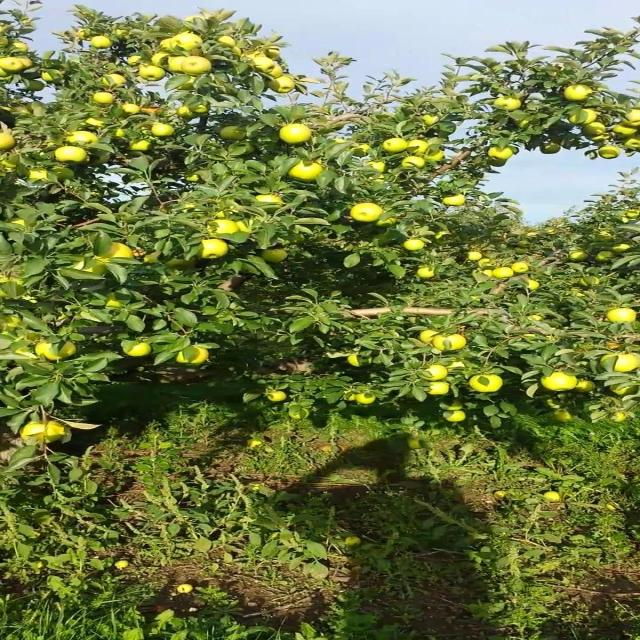apple: (20, 420, 67, 444), (540, 371, 578, 391), (36, 341, 76, 360), (600, 354, 640, 372), (278, 124, 313, 144), (289, 161, 324, 181), (349, 202, 382, 222), (53, 146, 87, 164), (431, 334, 467, 351), (71, 258, 107, 275), (200, 238, 229, 259), (469, 374, 502, 392), (176, 346, 209, 364), (180, 56, 211, 75), (171, 32, 202, 51), (173, 32, 202, 51), (100, 242, 133, 258), (562, 84, 593, 101), (269, 75, 296, 94), (64, 130, 98, 145), (567, 109, 598, 125), (209, 219, 240, 235), (256, 194, 284, 211), (122, 340, 151, 356), (218, 125, 247, 141), (138, 65, 167, 81), (251, 54, 276, 72), (493, 96, 522, 111), (424, 364, 449, 381), (607, 308, 636, 322), (260, 249, 289, 263), (609, 382, 638, 396), (382, 138, 409, 153), (151, 122, 176, 137), (582, 121, 607, 136), (487, 146, 513, 160), (0, 315, 22, 331), (613, 124, 638, 138), (622, 109, 640, 128), (89, 35, 113, 49), (598, 145, 622, 159), (407, 139, 429, 154), (102, 74, 127, 87), (491, 266, 516, 279), (400, 156, 427, 168), (164, 259, 196, 269), (427, 381, 451, 394), (0, 130, 16, 149), (442, 194, 467, 206), (442, 410, 467, 422), (351, 392, 376, 404), (91, 91, 113, 104), (402, 238, 424, 251), (40, 69, 62, 82), (51, 166, 73, 179), (551, 409, 573, 422), (16, 346, 38, 359), (176, 105, 196, 119), (264, 64, 284, 78), (0, 155, 20, 169), (573, 380, 596, 392), (264, 390, 287, 402), (593, 250, 616, 262), (167, 56, 184, 72), (151, 51, 169, 66), (540, 142, 562, 154), (27, 169, 49, 181), (287, 408, 309, 420), (416, 266, 436, 279), (511, 261, 531, 274), (176, 78, 196, 91), (142, 251, 162, 264), (420, 330, 438, 344), (129, 140, 151, 151), (567, 250, 589, 261), (440, 399, 462, 410), (120, 102, 140, 114), (347, 354, 367, 366), (351, 144, 371, 156), (107, 292, 122, 308), (622, 136, 640, 149), (262, 46, 280, 59), (189, 104, 209, 115), (364, 161, 384, 172), (424, 150, 444, 161), (71, 28, 91, 39), (578, 276, 600, 286), (589, 132, 611, 142), (420, 114, 438, 126), (218, 35, 236, 47), (487, 158, 507, 168), (611, 244, 633, 253), (376, 218, 398, 227), (611, 411, 629, 422), (160, 38, 176, 50), (27, 80, 44, 91), (596, 230, 613, 241), (84, 118, 104, 127), (237, 220, 251, 232), (467, 250, 482, 261), (407, 438, 422, 449), (213, 210, 231, 219), (17, 58, 33, 68), (447, 361, 467, 369), (544, 399, 560, 409), (0, 70, 13, 82), (526, 279, 540, 290), (478, 258, 493, 268), (127, 55, 142, 65), (478, 259, 493, 269), (624, 209, 640, 218), (9, 218, 27, 226), (544, 226, 560, 235), (344, 391, 358, 401), (113, 128, 127, 138), (13, 41, 27, 51), (518, 119, 531, 129), (184, 174, 200, 182), (516, 240, 531, 248), (527, 314, 544, 321), (436, 231, 451, 238), (513, 248, 529, 254), (469, 295, 482, 301)
